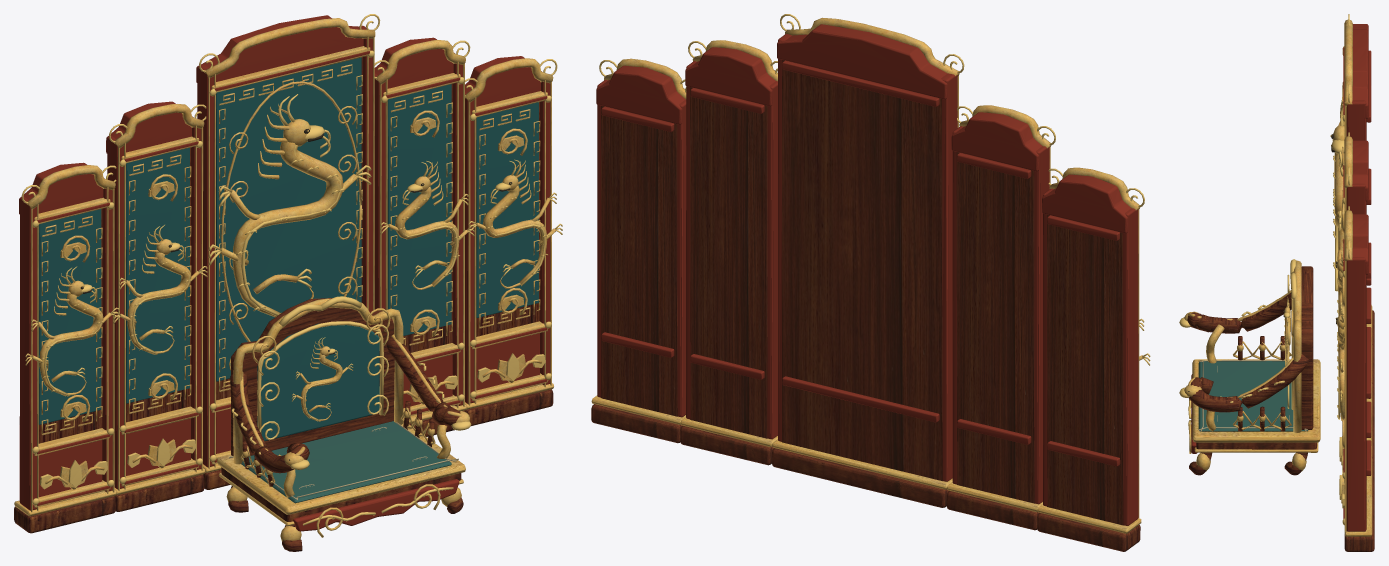
Rendered from imperial-throne.glb.
3 views of the same model, side by side, from view 1: azimuth 30°, elevation 25°; view 2: azimuth 150°, elevation 25°; view 3: azimuth 270°, elevation 25° (orthographic). The views are drawn at different scales.
Visible parts, largest first — view 1: ThroneScreen | 05 | Peacock teal lacquer, ThroneScreen | 02 | Worn gilded brass, ThroneScreen | 04 | Deep cinnabar lacquer, ThroneScreen | 01 | Aged dark nanmu-inspired wood, ThroneScreen | 03 | Hand-polished gold edges, ThroneScreen | 07 | Woven jade upholstery; view 2: ThroneScreen | 01 | Aged dark nanmu-inspired wood, ThroneScreen | 04 | Deep cinnabar lacquer, ThroneScreen | 02 | Worn gilded brass, ThroneScreen | 03 | Hand-polished gold edges; view 3: ThroneScreen | 02 | Worn gilded brass, ThroneScreen | 04 | Deep cinnabar lacquer, ThroneScreen | 01 | Aged dark nanmu-inspired wood, ThroneScreen | 07 | Woven jade upholstery, ThroneScreen | 03 | Hand-polished gold edges, ThroneScreen | 08 | Antique ivory details.
Boxes of the visible parts, left/top/right/bottom form: ThroneScreen | 05 | Peacock teal lacquer: left=38, top=57, right=538, bottom=440; ThroneScreen | 02 | Worn gilded brass: left=14, top=18, right=556, bottom=541; ThroneScreen | 04 | Deep cinnabar lacquer: left=19, top=15, right=550, bottom=531; ThroneScreen | 01 | Aged dark nanmu-inspired wood: left=14, top=57, right=553, bottom=551; ThroneScreen | 03 | Hand-polished gold edges: left=21, top=14, right=562, bottom=525; ThroneScreen | 07 | Woven jade upholstery: left=241, top=421, right=451, bottom=503; ThroneScreen | 01 | Aged dark nanmu-inspired wood: left=591, top=60, right=1140, bottom=551; ThroneScreen | 04 | Deep cinnabar lacquer: left=596, top=24, right=1138, bottom=525; ThroneScreen | 02 | Worn gilded brass: left=591, top=17, right=1142, bottom=533; ThroneScreen | 03 | Hand-polished gold edges: left=599, top=14, right=1150, bottom=365; ThroneScreen | 02 | Worn gilded brass: left=1184, top=19, right=1372, bottom=536; ThroneScreen | 04 | Deep cinnabar lacquer: left=1191, top=24, right=1371, bottom=531; ThroneScreen | 01 | Aged dark nanmu-inspired wood: left=1187, top=119, right=1374, bottom=551; ThroneScreen | 07 | Woven jade upholstery: left=1198, top=361, right=1308, bottom=431; ThroneScreen | 03 | Hand-polished gold edges: left=1179, top=14, right=1349, bottom=525; ThroneScreen | 08 | Antique ivory details: left=1198, top=360, right=1307, bottom=431.
Size of the model in its own units: 7.52 by 5.93 by 2.65.
Materials: 8 (2 with a texture image).
